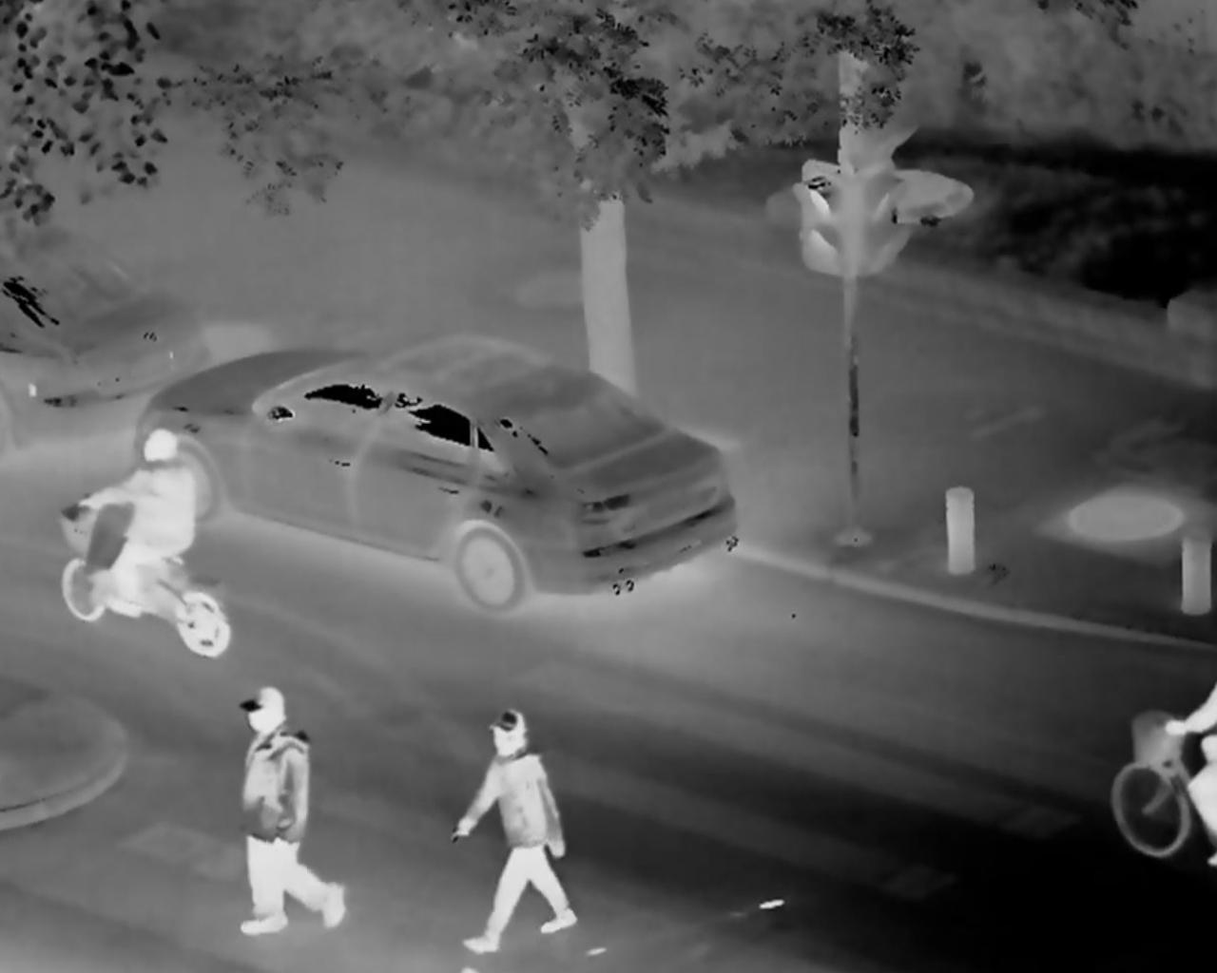person: (453, 706, 586, 951), (69, 425, 220, 633), (236, 689, 348, 947), (1176, 647, 1217, 848)
